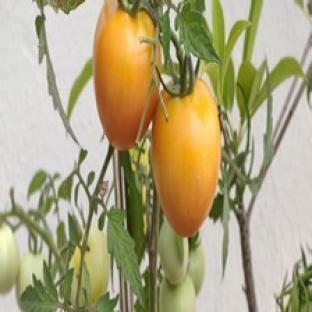Tomato: (152, 80, 221, 236), (80, 226, 110, 305), (159, 221, 189, 285), (16, 253, 45, 306), (159, 276, 196, 311), (0, 225, 19, 293), (189, 243, 204, 295)
